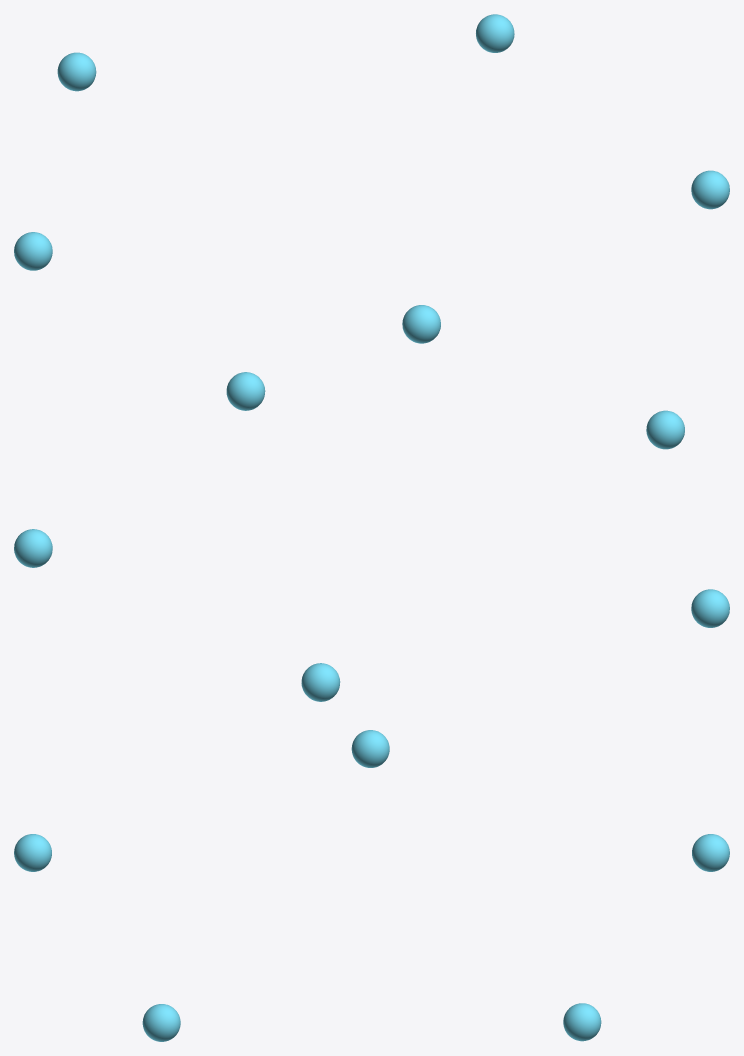
The picture shows the model from 3 angles, top to bottom: view 1: azimuth 30°, elevation 25°; view 2: azimuth 150°, elevation 25°; view 3: azimuth 270°, elevation 25°; orthographic projection.
Parts seen in each view (by area): view 1: Sphere049; view 2: Sphere049; view 3: Sphere049.
Part boxes in pixels (bbox=[...]): Sphere049: bbox=[14, 14, 729, 343]; Sphere049: bbox=[14, 372, 729, 701]; Sphere049: bbox=[14, 730, 729, 1041].
Bounding box in the file's own units: 148 × 8.22 × 154.
